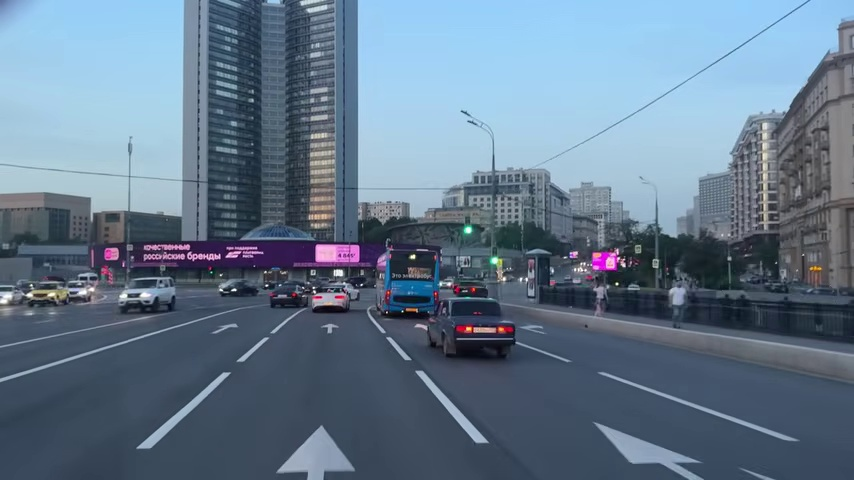apagada: (457, 108, 477, 128), (637, 174, 649, 188)
